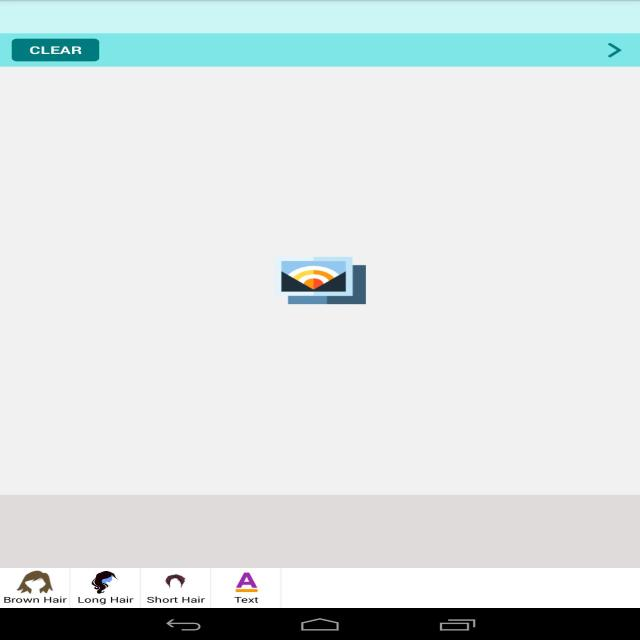button: (210, 568, 281, 607), (1, 568, 71, 607), (72, 568, 140, 607), (142, 568, 210, 607), (14, 39, 99, 62), (598, 37, 629, 61)
image: (277, 255, 368, 306), (12, 569, 58, 594), (89, 569, 120, 594), (232, 570, 260, 594), (160, 572, 188, 592)
text: (2, 594, 67, 605), (145, 594, 206, 604), (76, 594, 134, 604), (230, 595, 263, 604)
